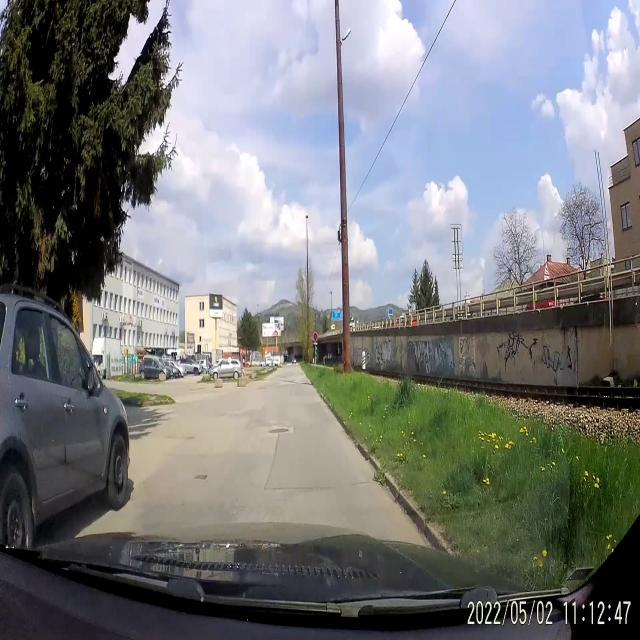Manhole: (266, 426, 290, 434), (194, 471, 208, 481)
